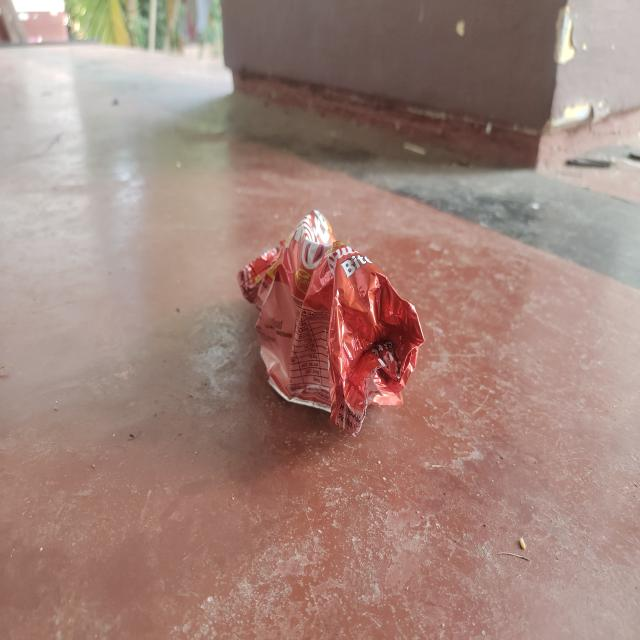plastic: (238, 208, 426, 438)
